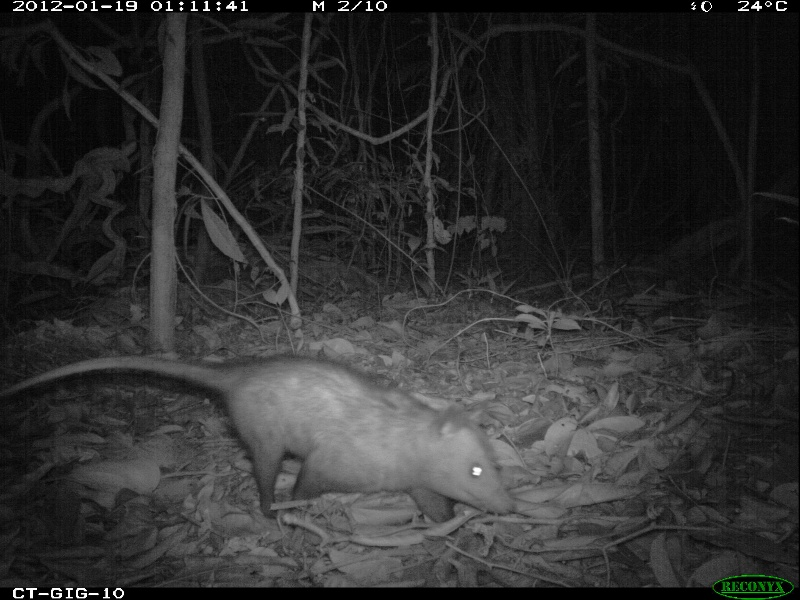opossum: (1, 324, 523, 538)
